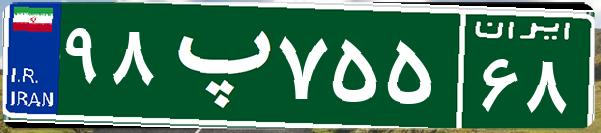5: (385, 28, 445, 110), (330, 28, 385, 110)
6: (475, 38, 525, 113)
7: (273, 28, 330, 110)
8: (110, 28, 158, 105), (525, 38, 570, 115)
9: (57, 26, 110, 107)
پ: (158, 15, 273, 115)
